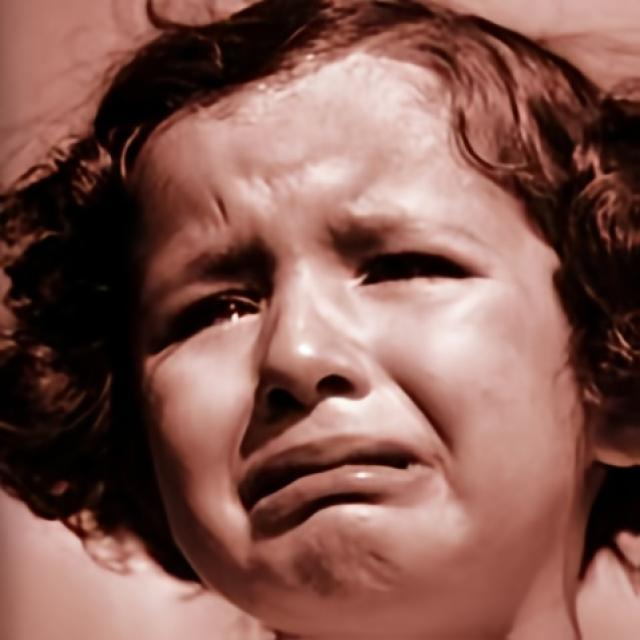sad: (129, 51, 576, 586)
